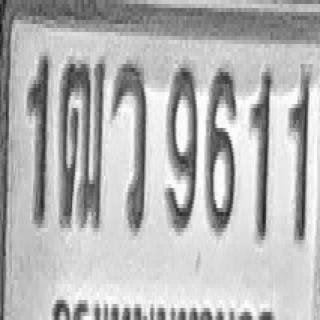A18: (60, 56, 106, 228)
A37: (112, 60, 146, 232)
N01: (288, 68, 312, 240), (250, 66, 273, 238), (28, 52, 49, 224)
N06: (206, 64, 236, 232)
N09: (165, 62, 197, 230)
